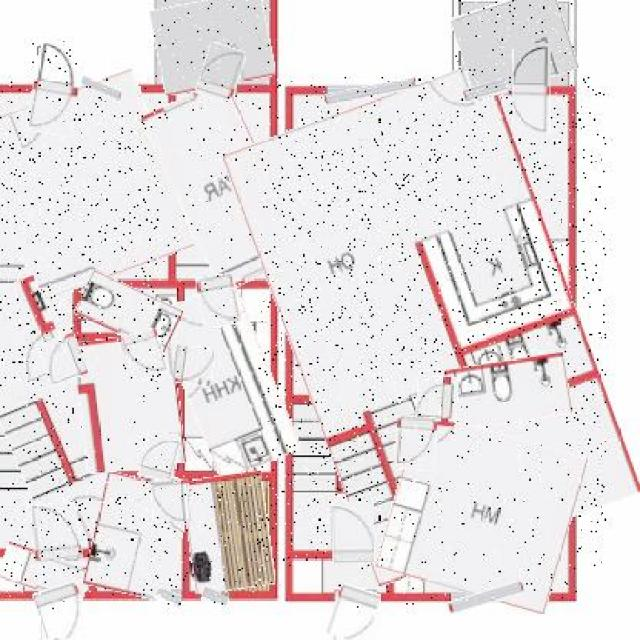door: (31, 40, 83, 135), (514, 45, 551, 140), (35, 583, 88, 640), (34, 503, 83, 560), (328, 584, 377, 640), (332, 502, 374, 563), (200, 44, 243, 102), (394, 417, 437, 471), (125, 329, 166, 382), (40, 335, 85, 383), (198, 274, 238, 328), (417, 377, 458, 426), (140, 434, 178, 483), (151, 480, 191, 522), (172, 346, 214, 385)
window: (326, 82, 419, 102), (448, 585, 524, 609), (78, 78, 122, 97), (464, 82, 508, 100), (202, 586, 228, 606), (156, 591, 182, 606)
zone: (259, 77, 606, 569), (0, 82, 180, 290), (384, 422, 578, 604), (0, 278, 111, 550), (160, 85, 289, 288), (169, 284, 286, 476), (77, 334, 181, 472), (89, 475, 188, 597), (152, 0, 272, 91), (455, 0, 573, 92), (186, 472, 272, 592), (446, 357, 571, 426), (77, 278, 180, 344), (0, 548, 89, 598)
